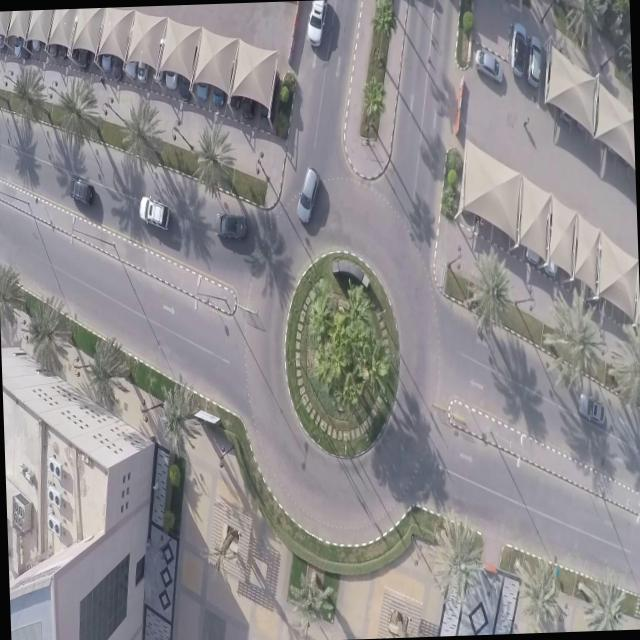car: (294, 164, 321, 224), (472, 44, 504, 86), (212, 209, 248, 244), (137, 195, 170, 232), (305, 0, 329, 48), (508, 22, 528, 78), (576, 390, 606, 426), (526, 34, 542, 90), (67, 176, 95, 206), (177, 73, 193, 103), (109, 49, 123, 83), (194, 75, 210, 104), (240, 93, 256, 121), (135, 54, 149, 84), (524, 242, 540, 268), (163, 66, 177, 92), (76, 42, 90, 68), (558, 102, 573, 126), (544, 258, 560, 279), (100, 46, 112, 74), (212, 82, 225, 106), (124, 56, 138, 78), (20, 32, 31, 59), (150, 64, 164, 85), (12, 31, 22, 58), (46, 36, 58, 58), (58, 37, 68, 60), (30, 32, 41, 52), (229, 94, 240, 112), (0, 26, 6, 49)
